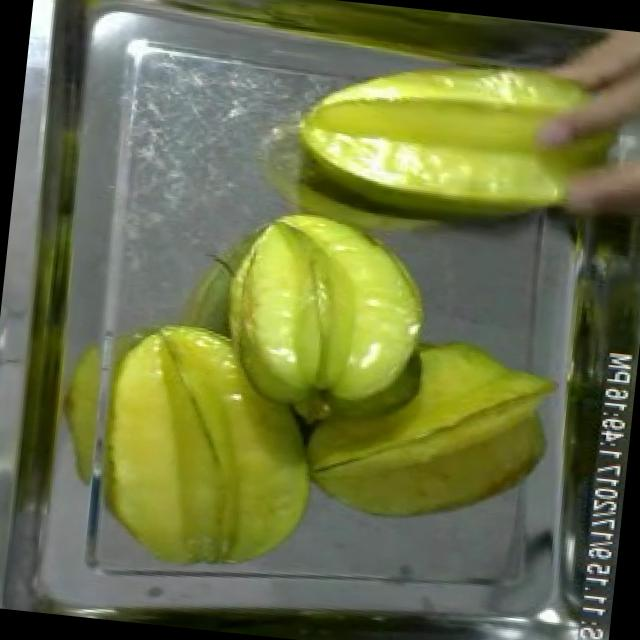fruit: (76, 304, 340, 592), (277, 30, 608, 236), (282, 314, 570, 549), (204, 192, 443, 426)
